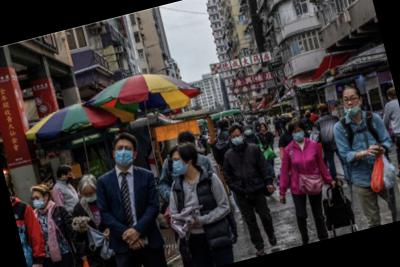mask_weared_incorrect: (341, 92, 364, 116)
with_mask: (112, 141, 138, 169), (170, 153, 190, 178), (31, 192, 48, 211), (229, 132, 246, 149), (291, 127, 308, 143), (82, 188, 98, 204), (65, 173, 74, 184), (244, 127, 253, 137), (305, 111, 312, 118)
without_mask: (260, 125, 268, 133)
